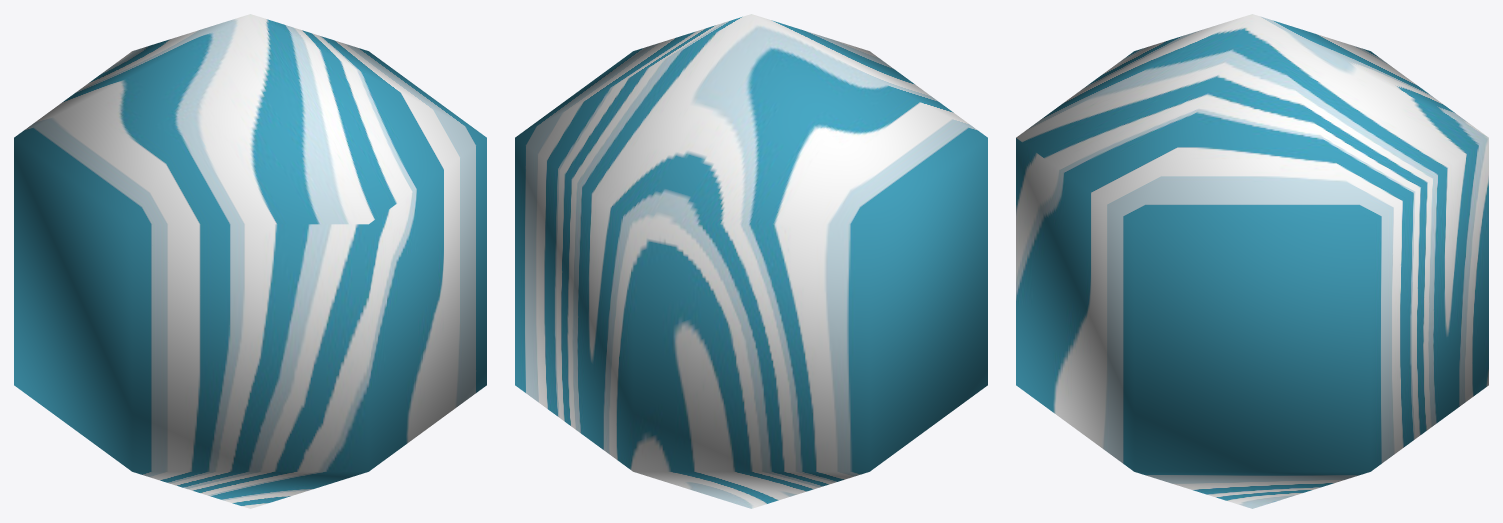
The model's file is blueberryfreezemarble_shooter.DAE.
3 views of the same model, side by side, from view 1: azimuth 30°, elevation 25°; view 2: azimuth 150°, elevation 25°; view 3: azimuth 270°, elevation 25° (orthographic).
Visible parts, largest first — view 1: Shooter_I; view 2: Shooter_I; view 3: Shooter_I.
Boxes of the visible parts, x1,y1,x2,y2 form: Shooter_I: (14, 14, 486, 508); Shooter_I: (515, 14, 987, 508); Shooter_I: (1016, 14, 1488, 508).
Size of the model in its own units: 0.0381 by 0.044 by 0.0508.
Materials: 1 (1 with a texture image).
